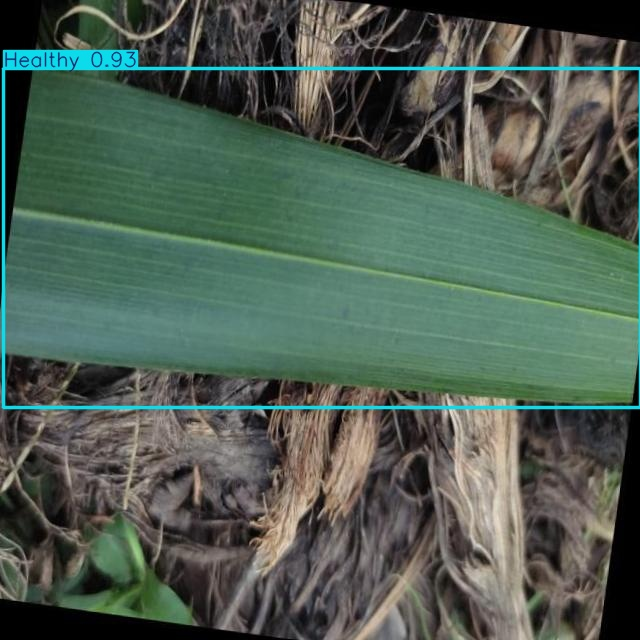Healthy: (3, 68, 640, 408)
